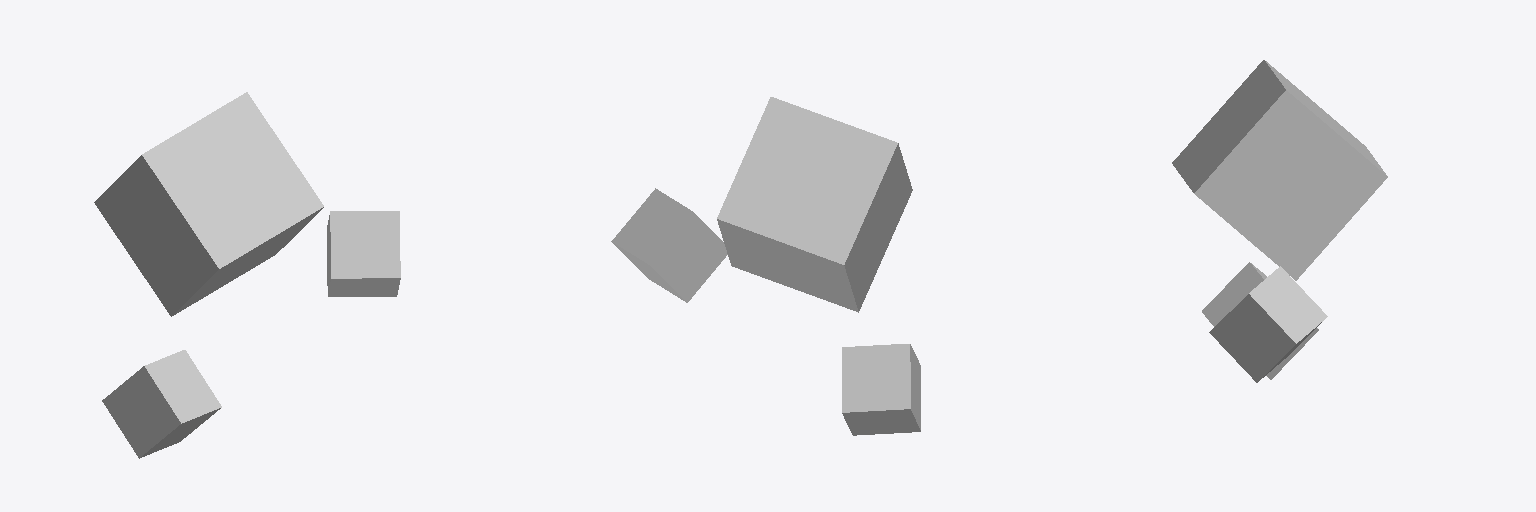
Rendered from cube_litter_4.obj.
3 views of the same model, side by side, from view 1: azimuth 30°, elevation 25°; view 2: azimuth 150°, elevation 25°; view 3: azimuth 270°, elevation 25° (orthographic).
Visible parts, largest first — view 1: Cube_Cube.001, Cube.002_Cube.003, Cube.001_Cube.002; view 2: Cube_Cube.001, Cube.001_Cube.002, Cube.002_Cube.003; view 3: Cube_Cube.001, Cube.001_Cube.002, Cube.002_Cube.003.
Part boxes in pixels (x1,y1,x2,y2): Cube_Cube.001: (94, 92, 323, 316); Cube.002_Cube.003: (102, 350, 221, 458); Cube.001_Cube.002: (327, 211, 400, 296); Cube_Cube.001: (717, 97, 912, 312); Cube.001_Cube.002: (611, 188, 727, 302); Cube.002_Cube.003: (842, 344, 920, 435); Cube_Cube.001: (1172, 60, 1387, 280); Cube.001_Cube.002: (1209, 266, 1327, 382); Cube.002_Cube.003: (1202, 262, 1318, 379).
Size of the model in its own units: 0.738 by 0.7764 by 0.4662.